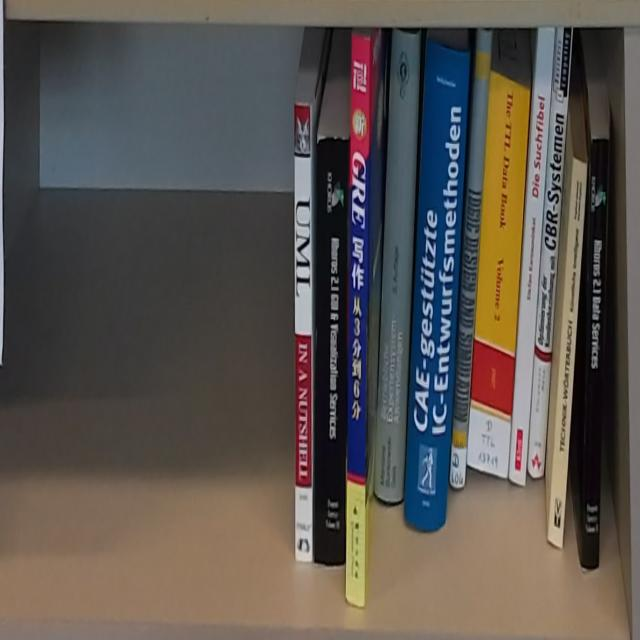Book Spine: (403, 40, 471, 533), (467, 73, 531, 482), (507, 27, 558, 486), (527, 25, 577, 480), (372, 27, 418, 505), (451, 28, 494, 493), (548, 157, 589, 551), (344, 34, 372, 609), (314, 135, 349, 569), (580, 138, 610, 573), (293, 104, 312, 565)
